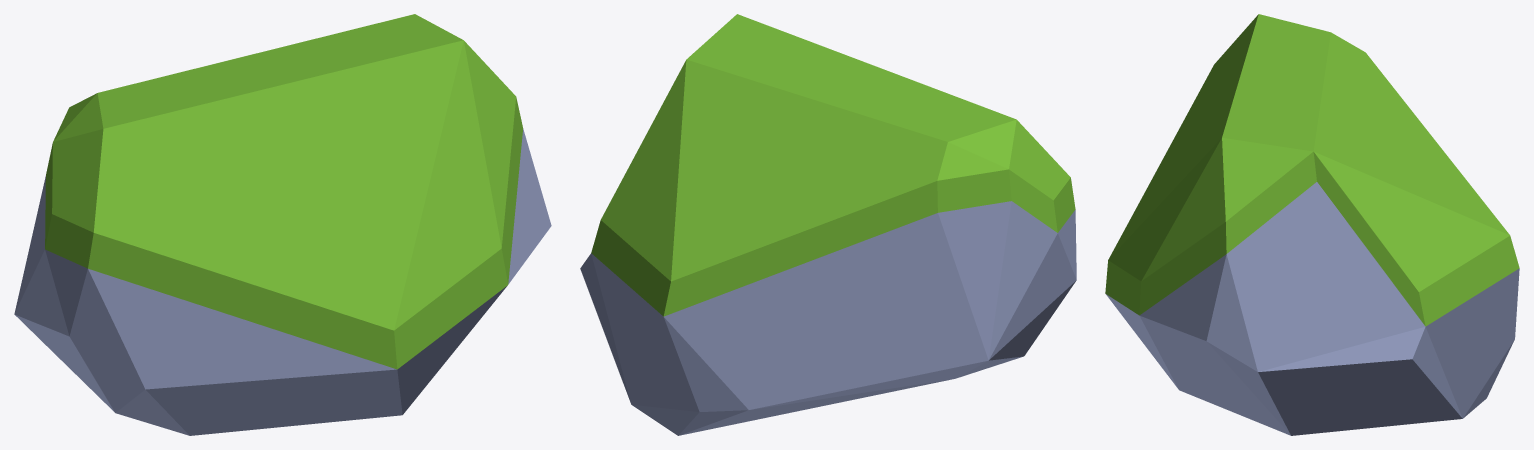
The model's file is Stone_8_1.fbx.
3 views of the same model, side by side, from view 1: azimuth 30°, elevation 25°; view 2: azimuth 150°, elevation 25°; view 3: azimuth 270°, elevation 25° (orthographic). The views are drawn at different scales.
Parts seen in each view (by area): view 1: Stone_8_1; view 2: Stone_8_1; view 3: Stone_8_1.
Part boxes in pixels (<box>): Stone_8_1: <box>14,14,551,435</box>; Stone_8_1: <box>580,14,1076,435</box>; Stone_8_1: <box>1105,14,1519,435</box>.
Size of the model in its own units: 1.16 by 0.7854 by 0.9925.
